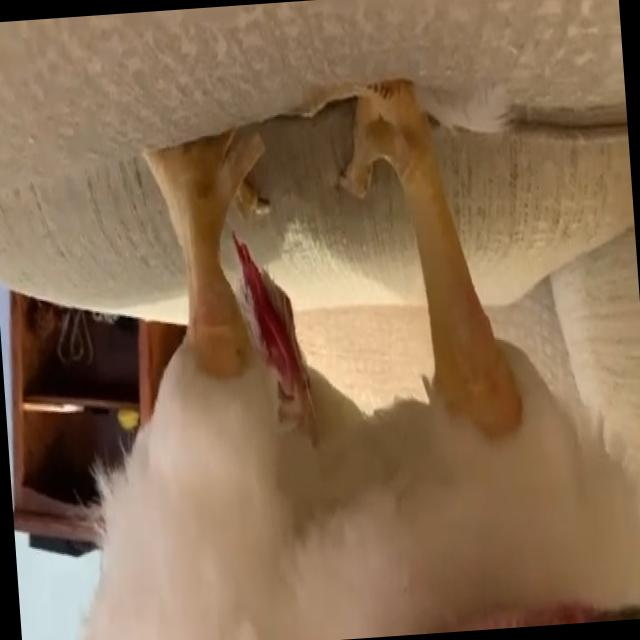self preening: (51, 63, 640, 640)
